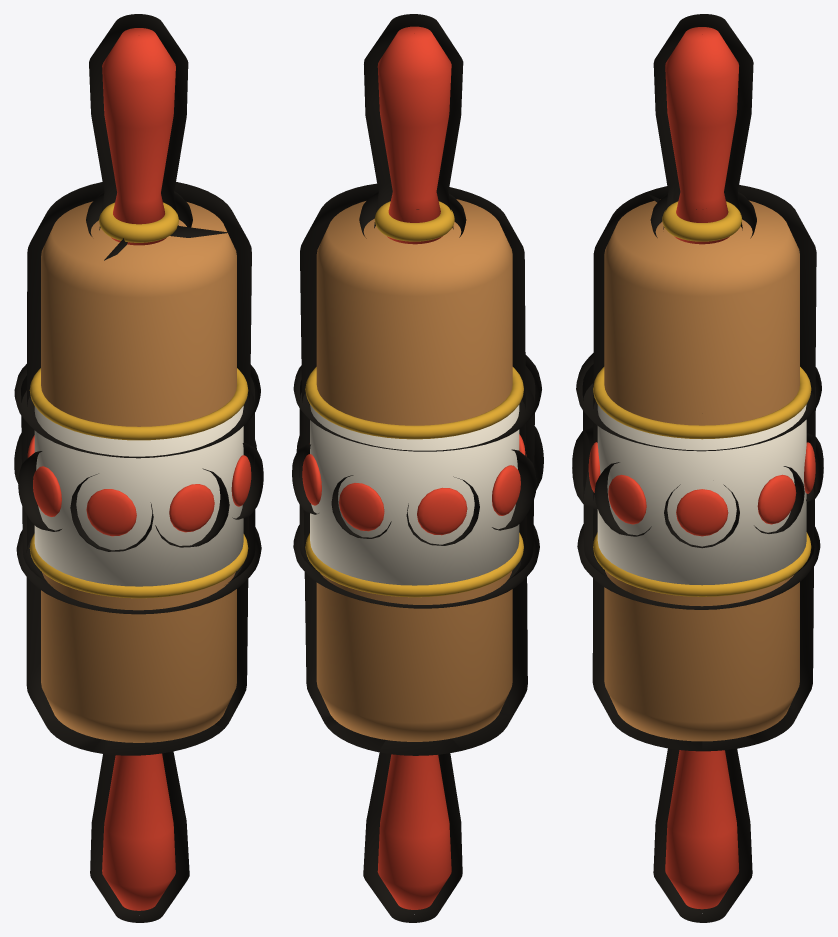
Rendered from rollingpin.glb.
3 renders of one model, left to right at view 1: azimuth 30°, elevation 25°; view 2: azimuth 150°, elevation 25°; view 3: azimuth 270°, elevation 25°, orthographic.
Parts seen in each view (by area): view 1: RollingPin, RollingPin_outline; view 2: RollingPin, RollingPin_outline; view 3: RollingPin, RollingPin_outline.
Part boxes in pixels (x1,y1,x2,y2): RollingPin: (27,28,251,910); RollingPin_outline: (14,14,263,922); RollingPin: (302,26,526,909); RollingPin_outline: (292,14,543,922); RollingPin: (588,27,815,909); RollingPin_outline: (572,14,823,922).
Bounding box in the file's own units: 0.5853 × 2.26 × 0.5784.
